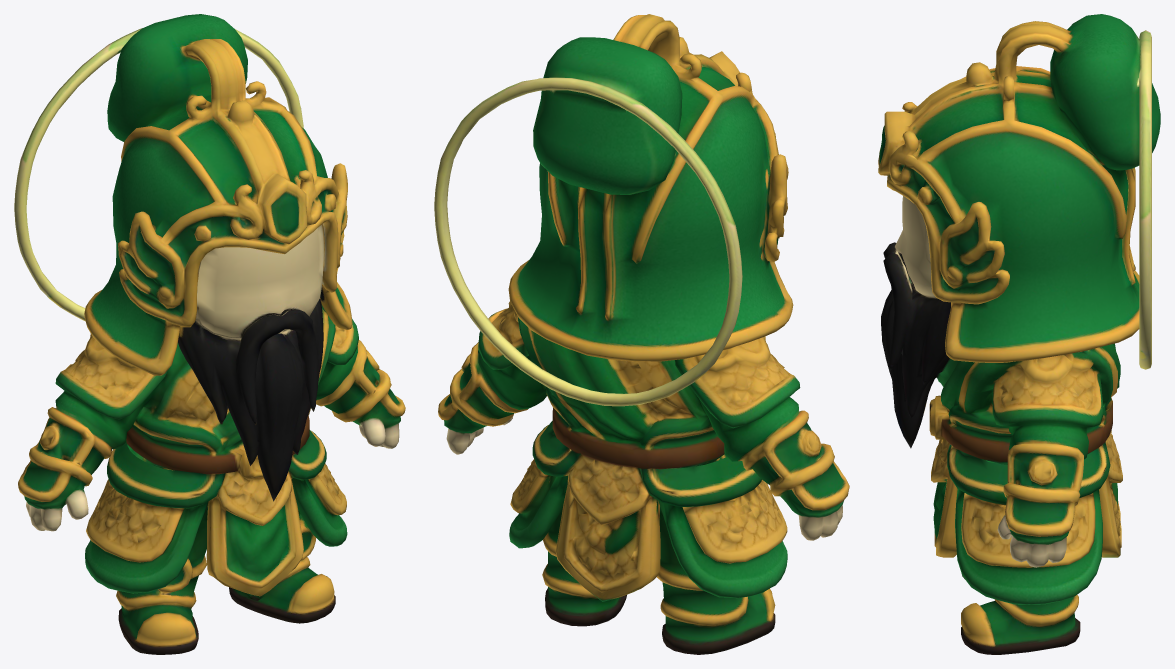
File: guan.glb
3 views of the same model, side by side, from view 1: azimuth 30°, elevation 25°; view 2: azimuth 150°, elevation 25°; view 3: azimuth 270°, elevation 25° (orthographic). The views are drawn at different scales.
Parts seen in each view (by area): view 1: tripo_node_bcf933c3-772a-4778-8ccc-9f15286b1ce8; view 2: tripo_node_bcf933c3-772a-4778-8ccc-9f15286b1ce8; view 3: tripo_node_bcf933c3-772a-4778-8ccc-9f15286b1ce8.
Part boxes in pixels (box(x1,y1,x2,y2)): tripo_node_bcf933c3-772a-4778-8ccc-9f15286b1ce8: box(14, 14, 405, 654); tripo_node_bcf933c3-772a-4778-8ccc-9f15286b1ce8: box(434, 14, 849, 654); tripo_node_bcf933c3-772a-4778-8ccc-9f15286b1ce8: box(878, 14, 1160, 654).
Bounding box in the file's own units: 0.6795 × 0.978 × 0.4306.
Materials: 1 (1 with a texture image).
